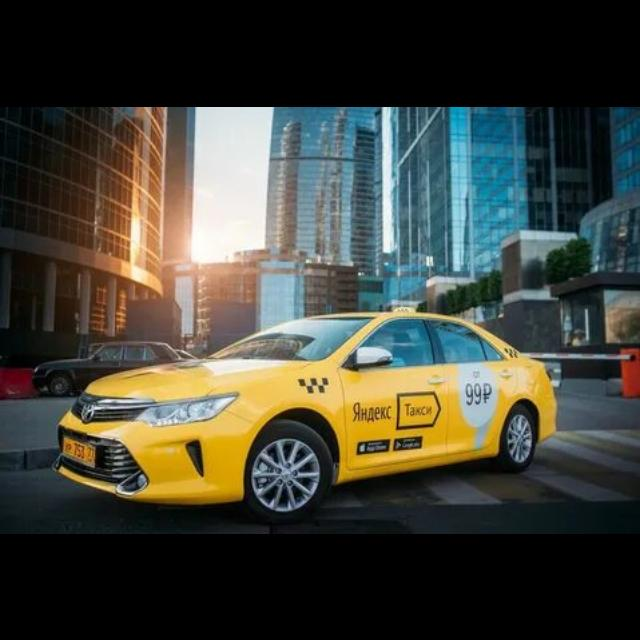taxi: (54, 306, 559, 522)
